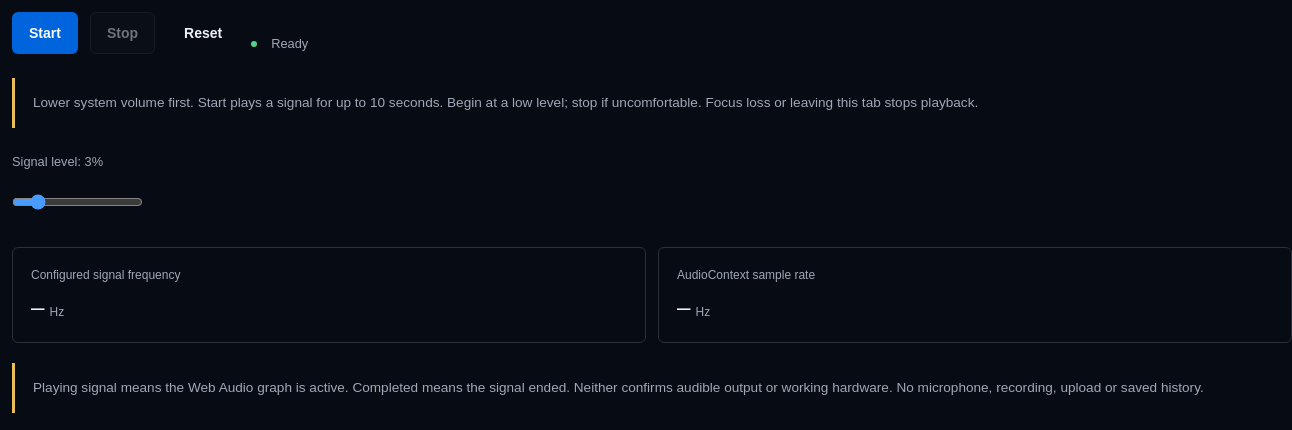
mounts D01 without audio or fabricated readings, and resets
Expected: the element showing "—Hz" below "Configured signal frequency" is shown, [31,295,44,321]
Click the button "Start". click: coordinates (45, 33)
box: [12,12,78,54]
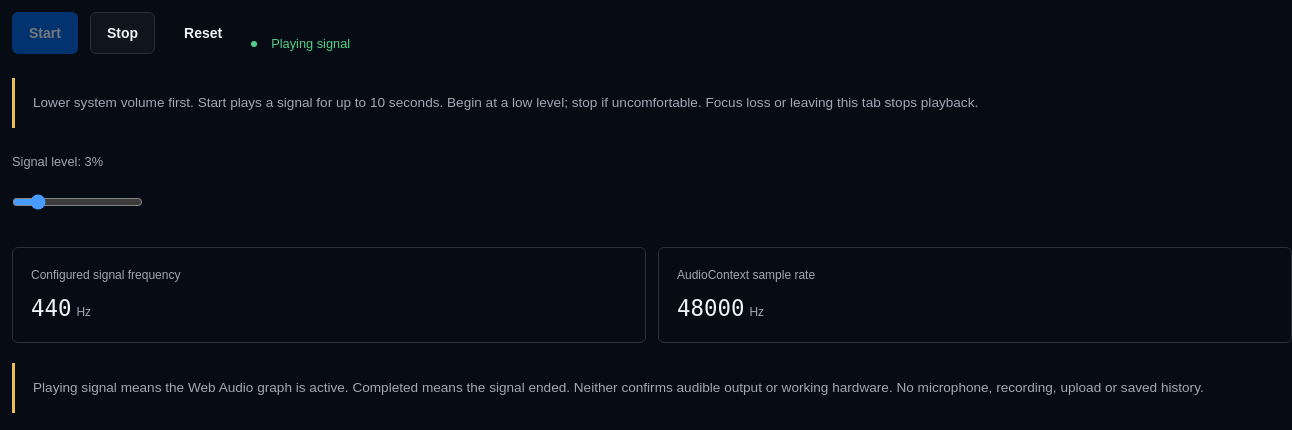
Expected: the message with class "status" reads "Playing signal", [271,36,350,51]
Click the button "Reset". click: coordinates (203, 33)
box: [167,12,239,54]
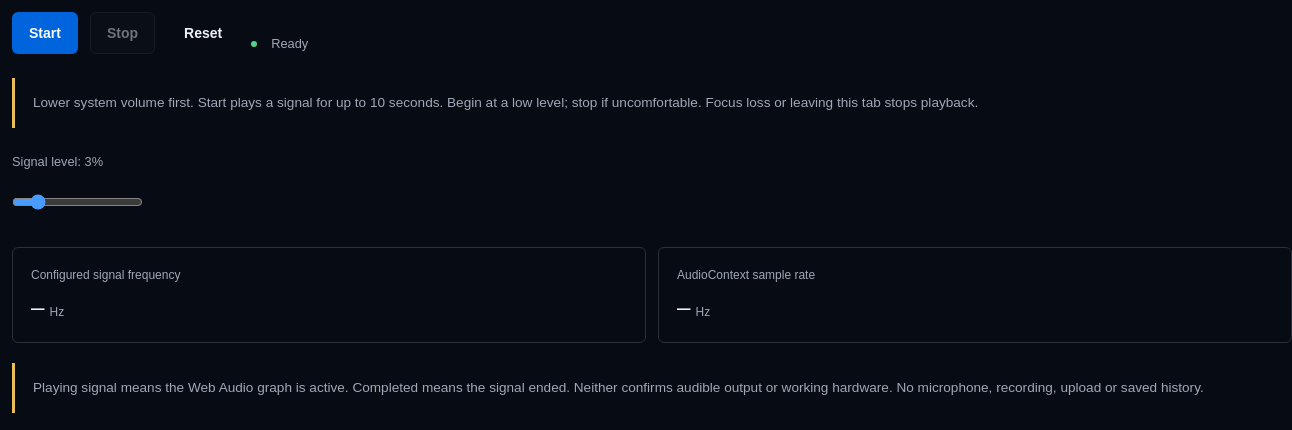
Expected: the message with class "status" reads "Ready", [271,36,308,51]
